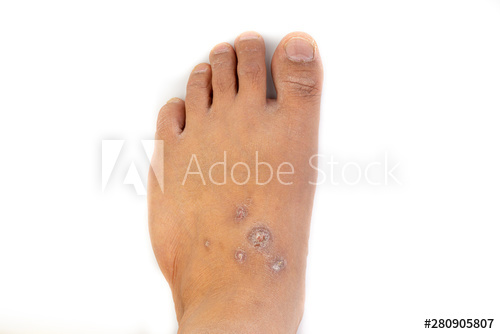Eczema: (187, 187, 295, 295)
